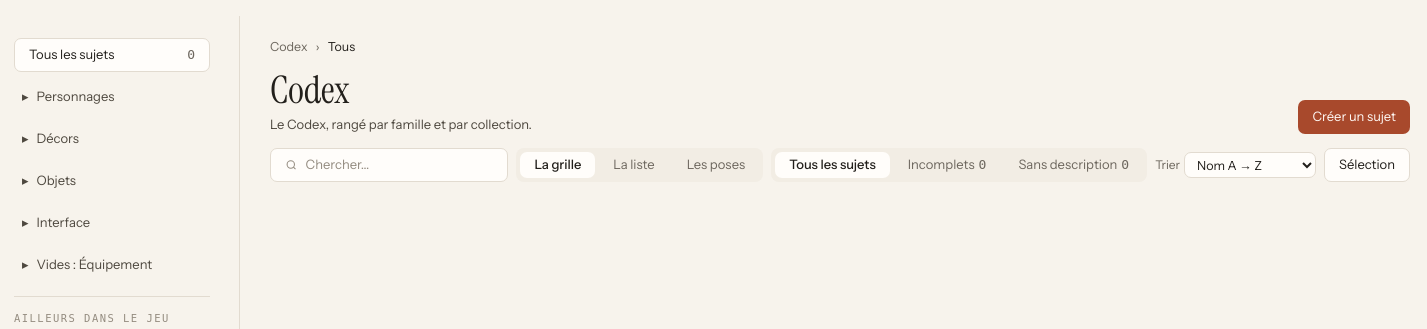
Test: L’atelier unifié · bibliothèque et fabrications réelles › une ancienne recherche retardée ne remplace pas la recherche courante
(page scrolled)
Click the tab "La liste".
click(634, 165)  # box [599, 152, 669, 178]
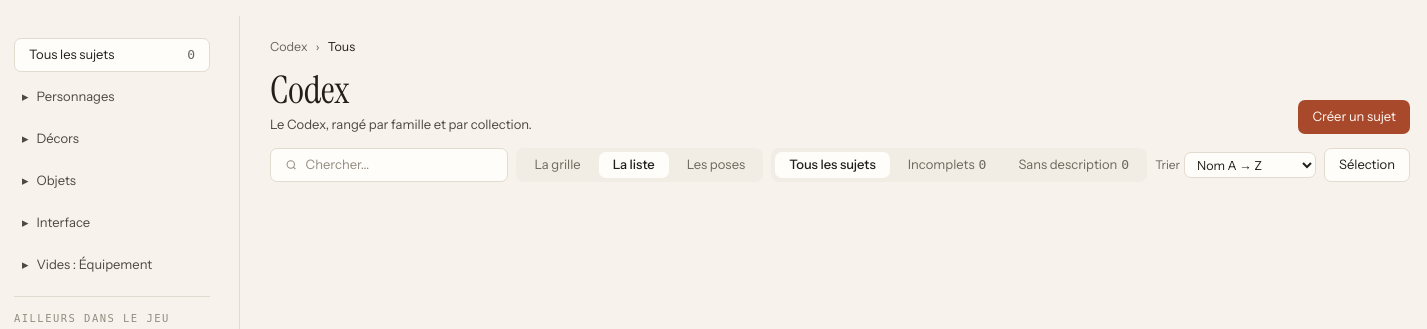
Type "bêta" into the search field.
click(400, 165); type("bêta")  # box [306, 155, 493, 175]
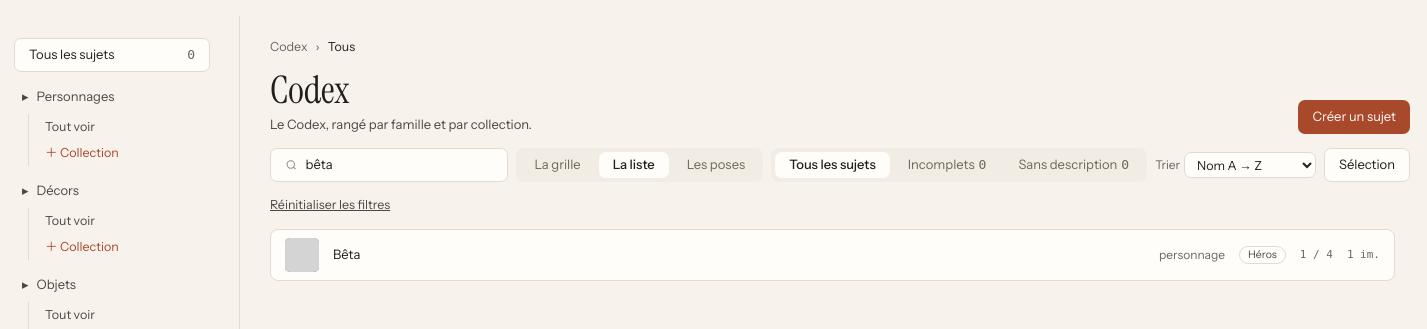
Check: the text "Bêta" is shown, box [333, 246, 360, 262]
